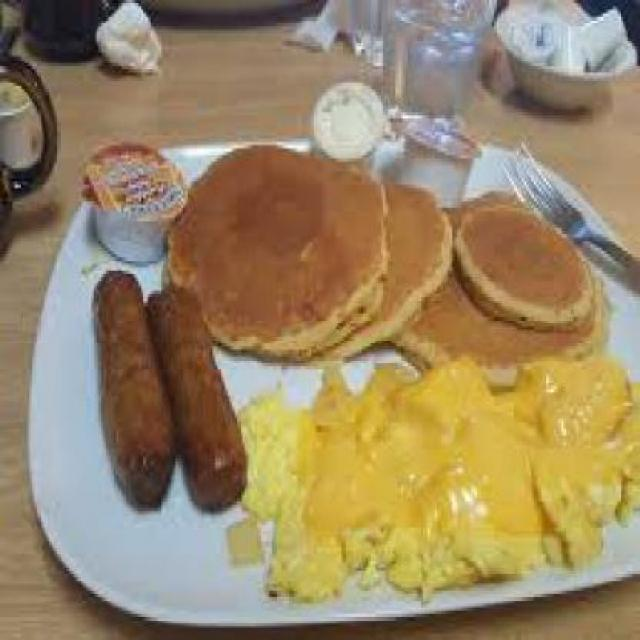hot dog: (84, 257, 250, 515)
omelette: (235, 349, 638, 594)
pancakes: (172, 142, 603, 369)
